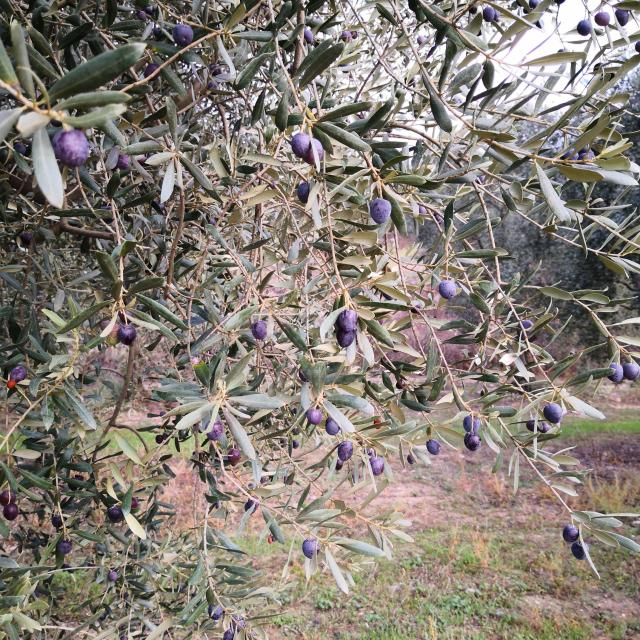Healthy: (51, 129, 90, 169), (290, 133, 323, 168), (463, 414, 482, 451), (608, 363, 640, 383), (0, 489, 19, 521), (542, 402, 566, 426), (172, 24, 195, 48), (370, 198, 391, 224), (337, 309, 358, 333), (117, 325, 137, 346), (205, 419, 224, 441), (302, 537, 320, 560), (336, 328, 355, 348), (571, 540, 590, 560), (438, 279, 456, 300), (107, 503, 124, 524), (369, 454, 385, 476), (9, 364, 28, 382), (251, 320, 268, 340), (55, 538, 73, 556), (562, 524, 579, 543), (325, 416, 341, 436), (337, 441, 353, 461), (306, 408, 323, 426), (297, 181, 310, 204), (144, 63, 160, 81), (576, 19, 592, 37), (482, 6, 500, 22), (208, 602, 223, 620), (615, 9, 630, 26), (426, 438, 441, 455), (227, 447, 240, 466), (51, 514, 64, 531), (595, 12, 610, 26), (223, 628, 238, 640), (304, 29, 314, 44), (108, 571, 119, 580), (293, 439, 300, 449)
Peacock Eye: (190, 357, 210, 388)
